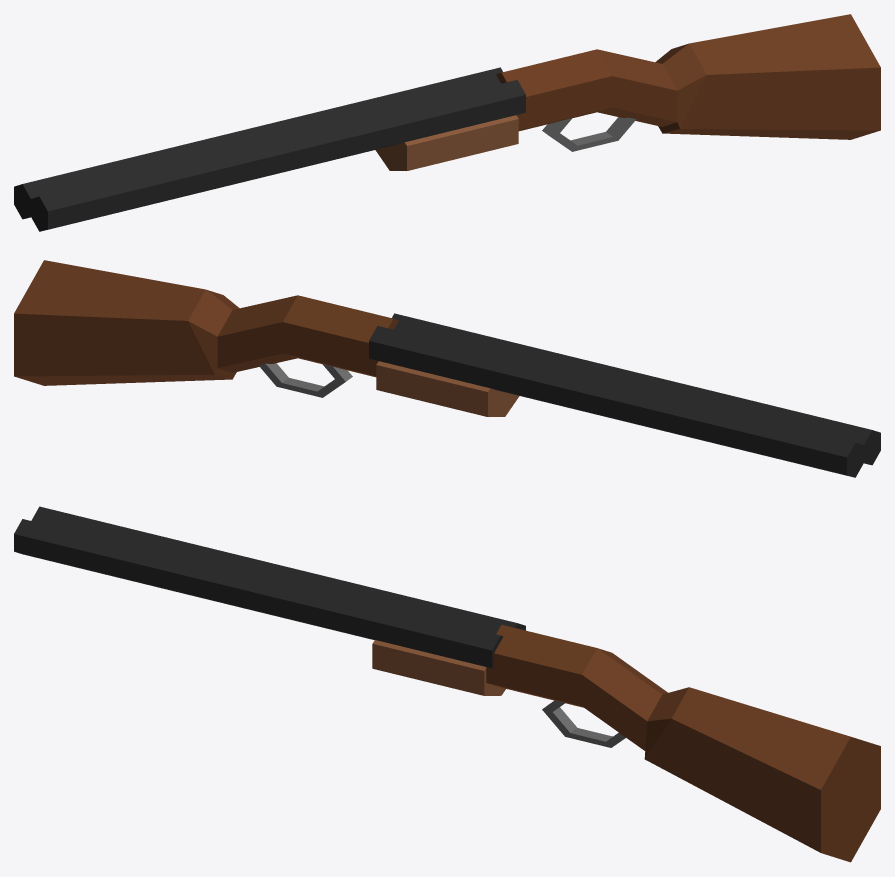
The model's file is BoubleBarrelShotgun.fbx.
3 renders of one model, top to bottom at view 1: azimuth 30°, elevation 25°; view 2: azimuth 150°, elevation 25°; view 3: azimuth 330°, elevation 25°, orthographic.
Visible parts, largest first — view 1: Shotgun; view 2: Shotgun; view 3: Shotgun.
Boxes of the visible parts, bbox=[...] form: Shotgun: bbox=[14, 14, 880, 231]; Shotgun: bbox=[14, 260, 880, 477]; Shotgun: bbox=[14, 506, 880, 862].
Bounding box in the file's own units: 138 × 24.49 × 17.49.
